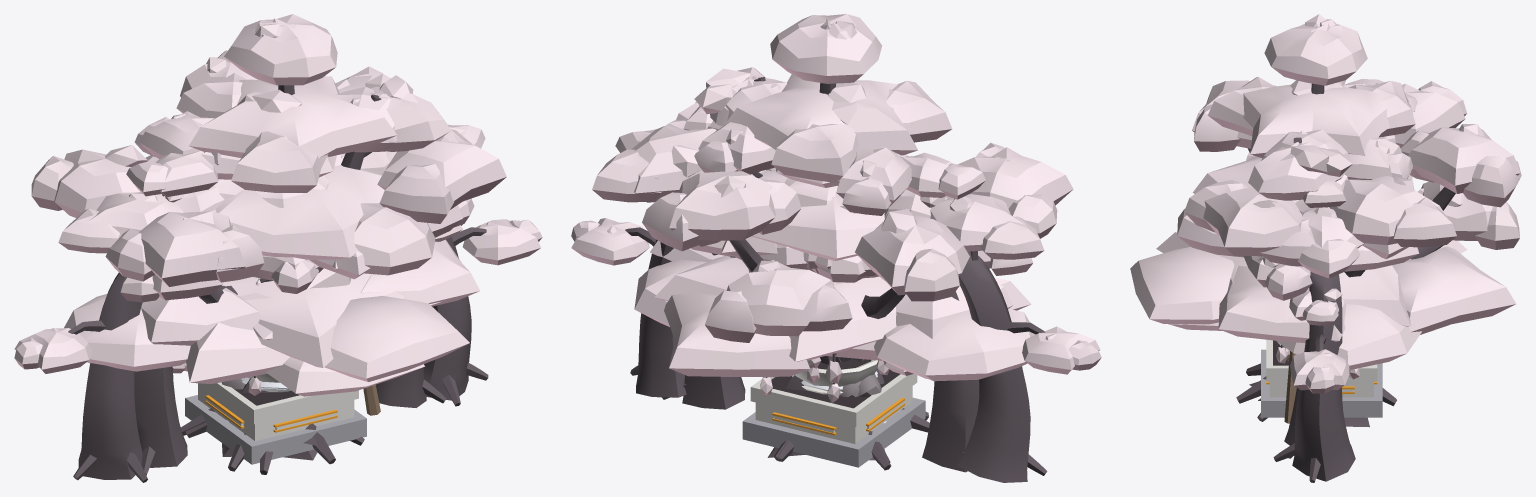
Rendered from Dawnspire_Trees.fbx.
3 renders of one model, left to right at view 1: azimuth 30°, elevation 25°; view 2: azimuth 150°, elevation 25°; view 3: azimuth 270°, elevation 25°, orthographic. The views are drawn at different scales.
Visible parts, largest first — view 1: Dawnspire_Trees_TierTreeA__Blossom, Dawnspire_Trees_ArchTreeB__Blossom, Dawnspire_Trees_TierTreeB__Blossom, Dawnspire_Trees_BoundTreeA__Blossom, Dawnspire_Trees_ArchTreeB__Bark, Dawnspire_Trees_BoundTreeB__Blossom, Dawnspire_Trees_ArchTreeA__Bark, Dawnspire_Trees_PlinthTreeA__Plinth, Dawnspire_Trees_ArchTreeA__Blossom, Dawnspire_Trees_TierTreeA__BlossomBlush, Dawnspire_Trees_PlinthTreeA__PlinthBase, Dawnspire_Trees_TierTreeB__BlossomBlush (+7 smaller); view 2: Dawnspire_Trees_TierTreeA__Blossom, Dawnspire_Trees_BoundTreeB__Blossom, Dawnspire_Trees_BoundTreeA__Blossom, Dawnspire_Trees_ArchTreeB__Blossom, Dawnspire_Trees_ArchTreeB__Bark, Dawnspire_Trees_TierTreeB__Blossom, Dawnspire_Trees_ArchTreeA__Blossom, Dawnspire_Trees_ArchTreeA__Bark, Dawnspire_Trees_PlinthTreeA__Plinth, Dawnspire_Trees_PlinthTreeA__PlinthBase, Dawnspire_Trees_TierTreeA__BlossomBlush, Dawnspire_Trees_BoundTreeB__BlossomBlush (+8 smaller); view 3: Dawnspire_Trees_TierTreeA__Blossom, Dawnspire_Trees_BoundTreeA__Blossom, Dawnspire_Trees_BoundTreeB__Blossom, Dawnspire_Trees_TierTreeB__Blossom, Dawnspire_Trees_ArchTreeB__Bark, Dawnspire_Trees_ArchTreeB__Blossom, Dawnspire_Trees_ArchTreeA__Blossom, Dawnspire_Trees_TierTreeA__BlossomBlush, Dawnspire_Trees_BoundTreeB__BlossomBlush, Dawnspire_Trees_BoundTreeA__BlossomBlush, Dawnspire_Trees_PlinthTreeA__PlinthBase, Dawnspire_Trees_PlinthTreeA__Plinth (+6 smaller).
Boxes of the visible parts, bbox=[...] form: Dawnspire_Trees_TierTreeA__Blossom: bbox=[141, 14, 480, 378]; Dawnspire_Trees_ArchTreeB__Blossom: bbox=[14, 124, 542, 369]; Dawnspire_Trees_TierTreeB__Blossom: bbox=[64, 73, 451, 393]; Dawnspire_Trees_BoundTreeA__Blossom: bbox=[31, 50, 506, 214]; Dawnspire_Trees_ArchTreeB__Bark: bbox=[68, 227, 488, 482]; Dawnspire_Trees_BoundTreeB__Blossom: bbox=[105, 66, 382, 287]; Dawnspire_Trees_ArchTreeA__Bark: bbox=[134, 366, 446, 475]; Dawnspire_Trees_PlinthTreeA__Plinth: bbox=[198, 382, 358, 441]; Dawnspire_Trees_ArchTreeA__Blossom: bbox=[120, 89, 474, 295]; Dawnspire_Trees_TierTreeA__BlossomBlush: bbox=[151, 57, 479, 381]; Dawnspire_Trees_PlinthTreeA__PlinthBase: bbox=[185, 395, 366, 464]; Dawnspire_Trees_TierTreeB__BlossomBlush: bbox=[87, 132, 448, 396]; Dawnspire_Trees_TierTreeA__Blossom: bbox=[650, 14, 1013, 369]; Dawnspire_Trees_BoundTreeB__Blossom: bbox=[592, 125, 1073, 332]; Dawnspire_Trees_BoundTreeA__Blossom: bbox=[642, 102, 969, 291]; Dawnspire_Trees_ArchTreeB__Blossom: bbox=[571, 106, 1101, 369]; Dawnspire_Trees_ArchTreeB__Bark: bbox=[625, 227, 1047, 482]; Dawnspire_Trees_TierTreeB__Blossom: bbox=[634, 67, 1035, 375]; Dawnspire_Trees_ArchTreeA__Blossom: bbox=[694, 122, 1032, 268]; Dawnspire_Trees_ArchTreeA__Bark: bbox=[662, 172, 979, 472]; Dawnspire_Trees_PlinthTreeA__Plinth: bbox=[750, 374, 917, 443]; Dawnspire_Trees_PlinthTreeA__PlinthBase: bbox=[742, 397, 925, 467]; Dawnspire_Trees_TierTreeA__BlossomBlush: bbox=[652, 60, 1012, 376]; Dawnspire_Trees_BoundTreeB__BlossomBlush: bbox=[592, 171, 1072, 342]; Dawnspire_Trees_TierTreeA__Blossom: bbox=[1130, 14, 1516, 340]; Dawnspire_Trees_BoundTreeA__Blossom: bbox=[1184, 81, 1521, 258]; Dawnspire_Trees_BoundTreeB__Blossom: bbox=[1192, 80, 1519, 240]; Dawnspire_Trees_TierTreeB__Blossom: bbox=[1170, 131, 1421, 365]; Dawnspire_Trees_ArchTreeB__Bark: bbox=[1273, 271, 1355, 482]; Dawnspire_Trees_ArchTreeB__Blossom: bbox=[1290, 80, 1363, 388]; Dawnspire_Trees_ArchTreeA__Blossom: bbox=[1243, 79, 1412, 294]; Dawnspire_Trees_TierTreeA__BlossomBlush: bbox=[1150, 67, 1515, 342]; Dawnspire_Trees_BoundTreeB__BlossomBlush: bbox=[1192, 130, 1519, 249]; Dawnspire_Trees_BoundTreeA__BlossomBlush: bbox=[1184, 111, 1520, 266]; Dawnspire_Trees_PlinthTreeA__PlinthBase: bbox=[1261, 349, 1382, 417]; Dawnspire_Trees_PlinthTreeA__Plinth: bbox=[1266, 339, 1377, 397].
Size of the model in its own units: 25.7 by 20.05 by 18.33.
